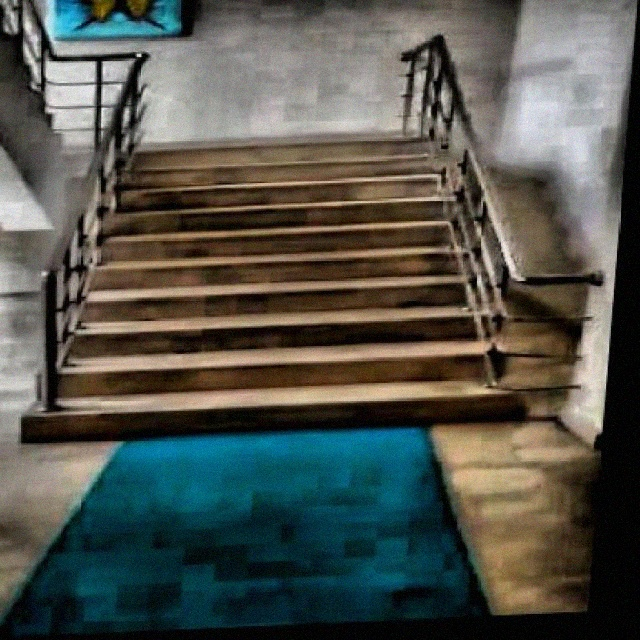stair: (30, 115, 565, 448)
